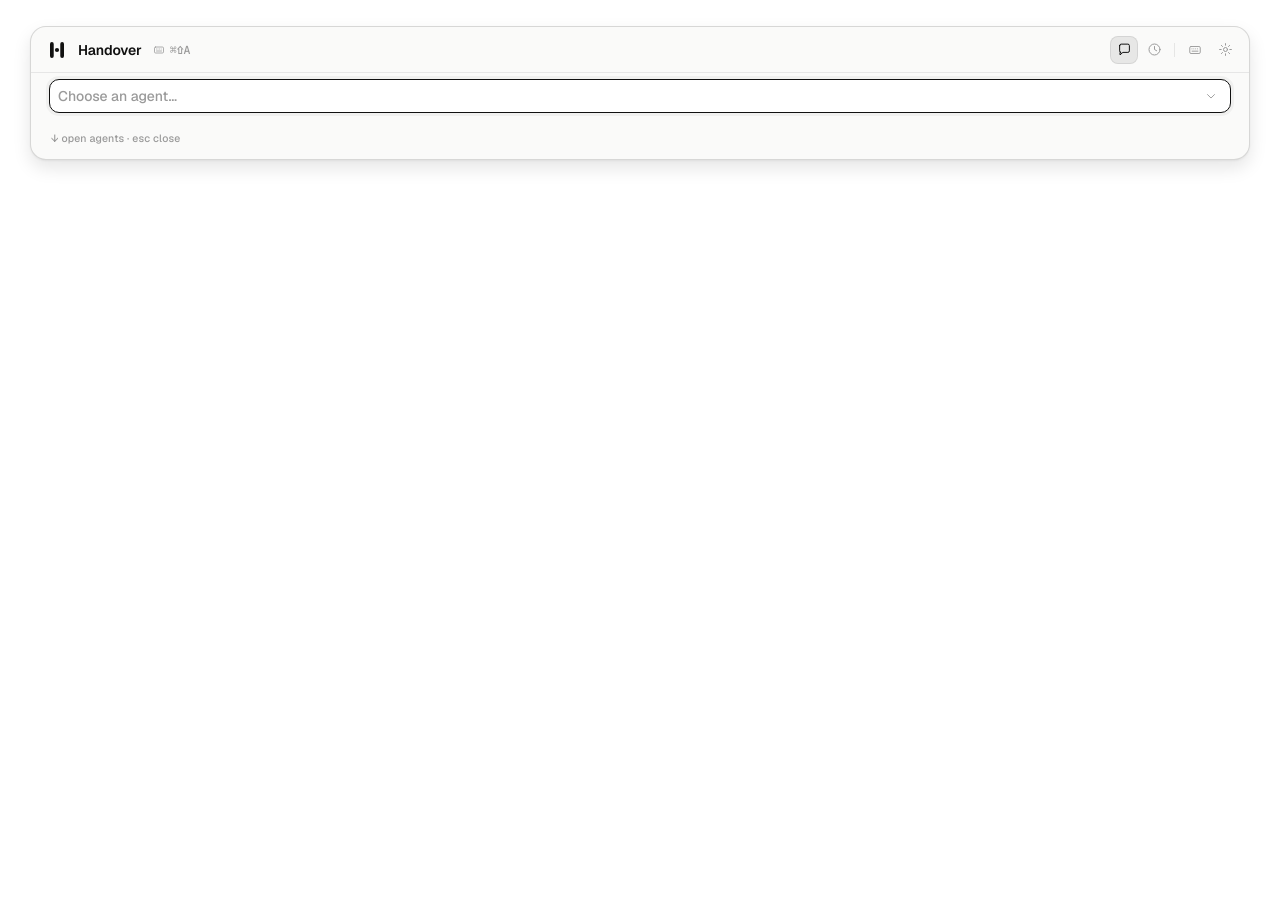
Scenario: palette — agent dropdown picker (groups, status, logos) › labels an idle session with its time instead of 'working'
This screenshot has width=1280, height=900.
What coordinates should you click on to do the following:
click the button with test id "agent-dropdown-trigger"
I would click on:
 (118, 96)
Its box is x1=49 y1=79 x2=1231 y2=113.
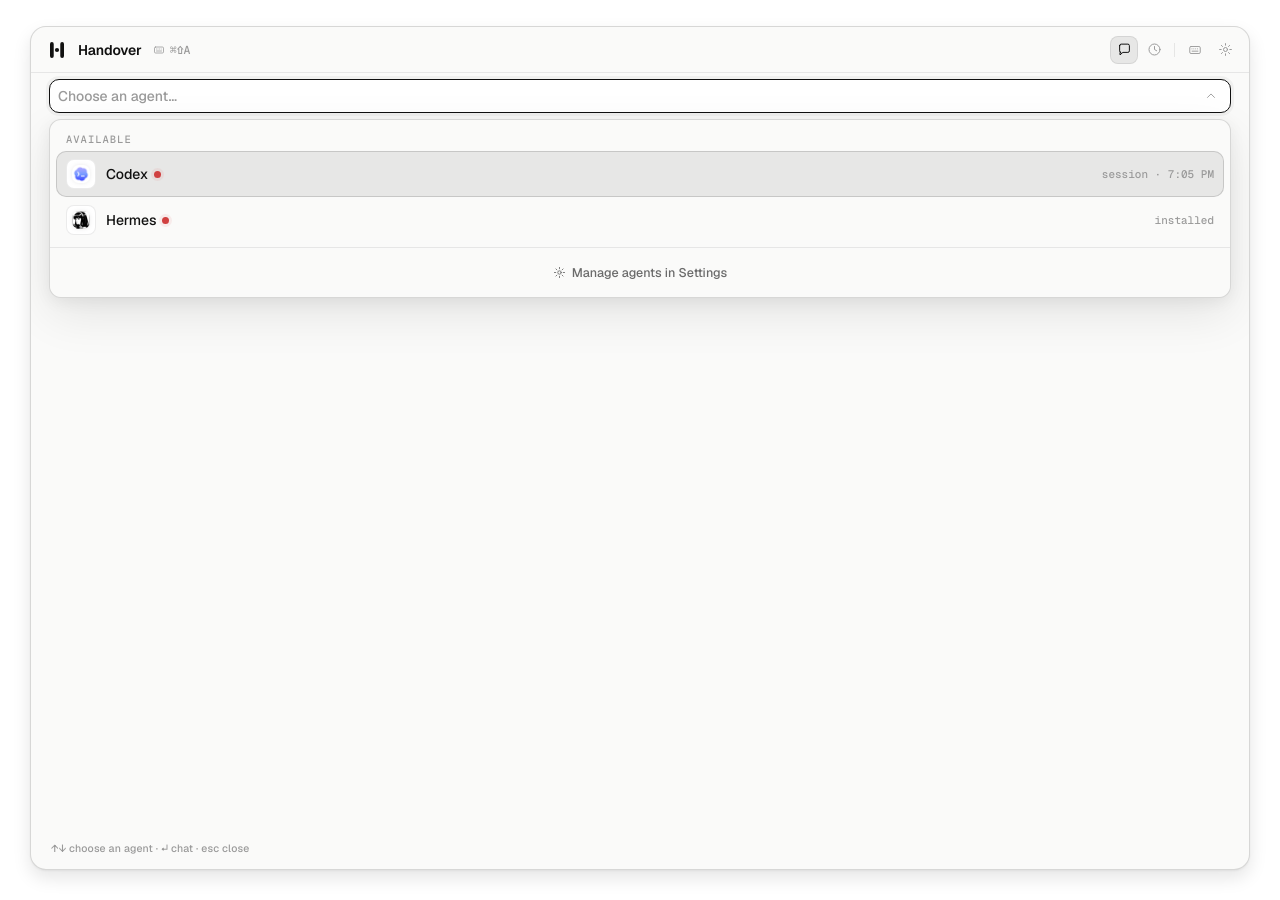
Expected: the option with test id "agent-codex" does not show "working", x1=56 y1=151 x2=1224 y2=197
Expected: the list "agents" is shown, x1=49 y1=119 x2=1231 y2=298
Expected: the option with test id "agent-codex" shows "session ·", x1=56 y1=151 x2=1224 y2=197
